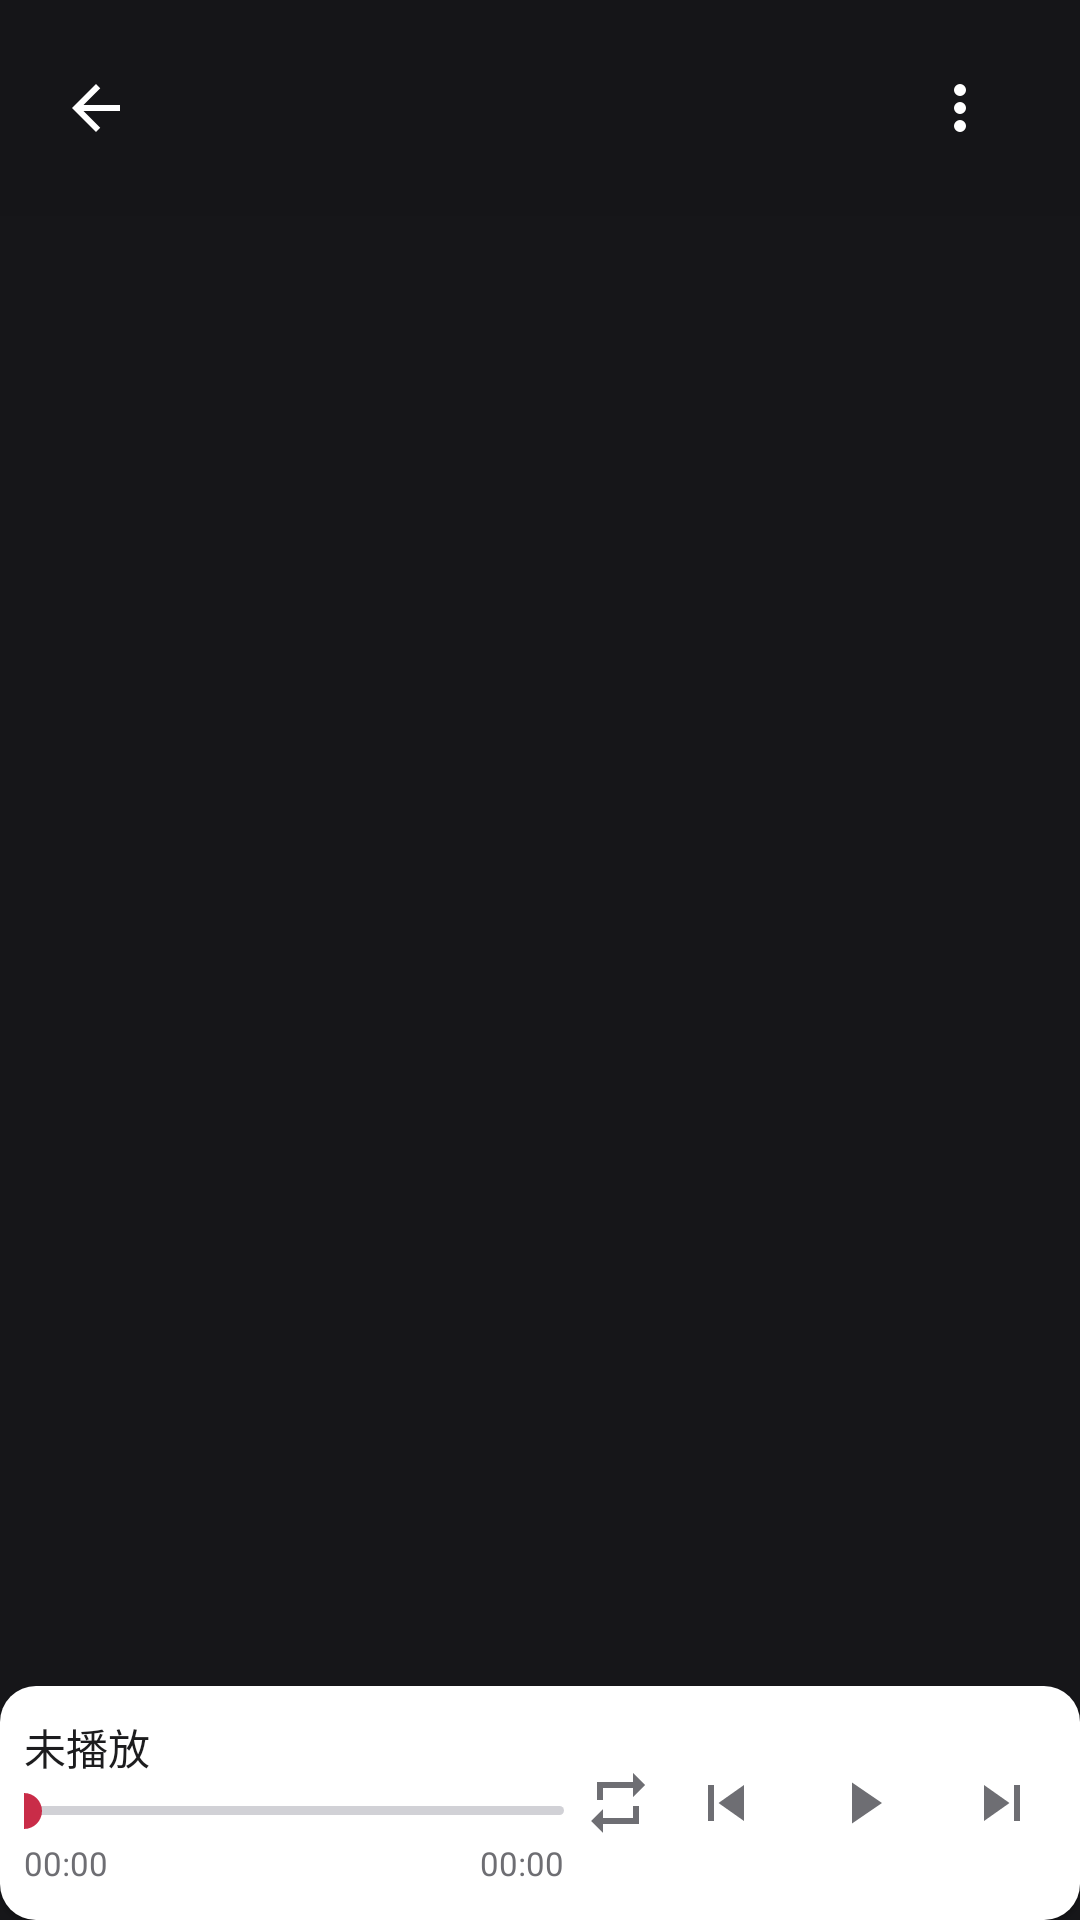

Named icons in this screenshot (1080px x 1920px) and their centers, point (x, y):
上一首: point (726, 1803)
下一首: point (1002, 1803)
播放: point (867, 1803)
播放模式: point (618, 1803)
更多: point (960, 108)
返回: point (96, 108)
